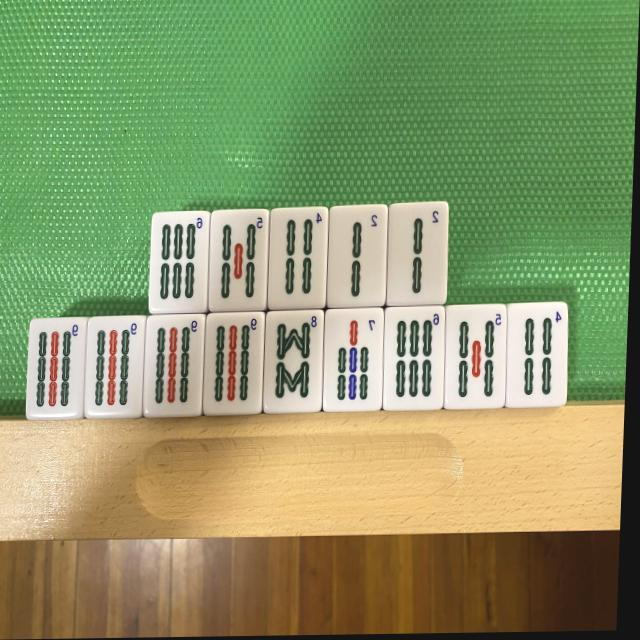s2: (386, 203, 449, 303), (327, 205, 387, 305)
s4: (504, 304, 570, 407), (268, 208, 329, 307)
s5: (444, 306, 507, 408), (208, 211, 270, 309)
s6: (383, 308, 446, 410), (150, 212, 209, 311)
s7: (323, 309, 384, 410)
s8: (263, 311, 325, 413)
s9: (204, 313, 265, 413), (144, 316, 204, 414), (86, 317, 144, 415), (27, 320, 85, 416)
